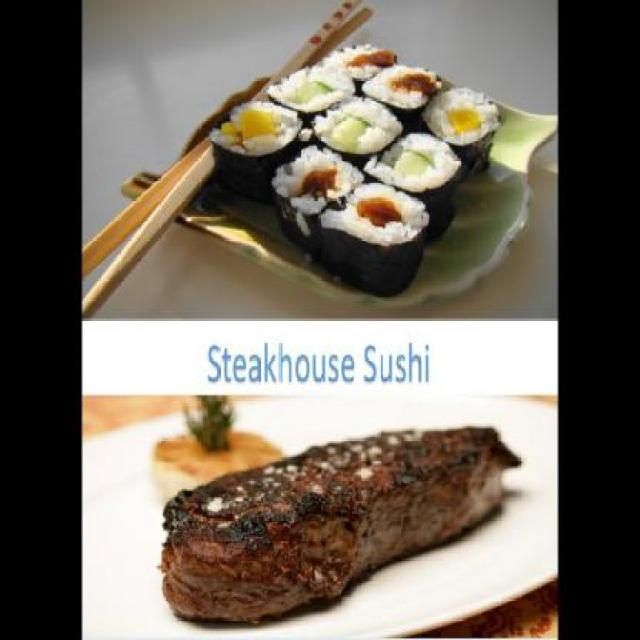steak: (152, 405, 520, 603)
sushi: (197, 23, 501, 292)
